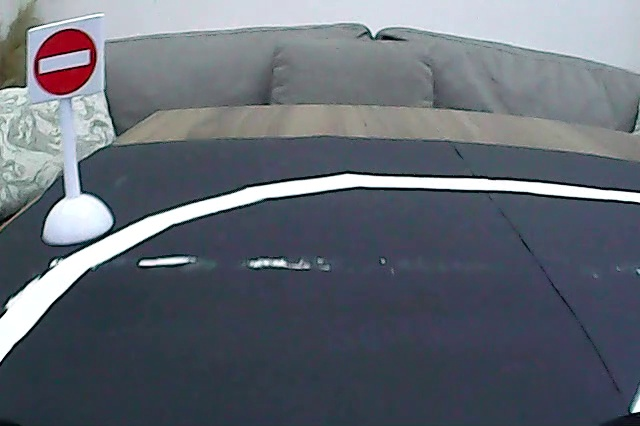do not enter: (31, 25, 99, 98)
